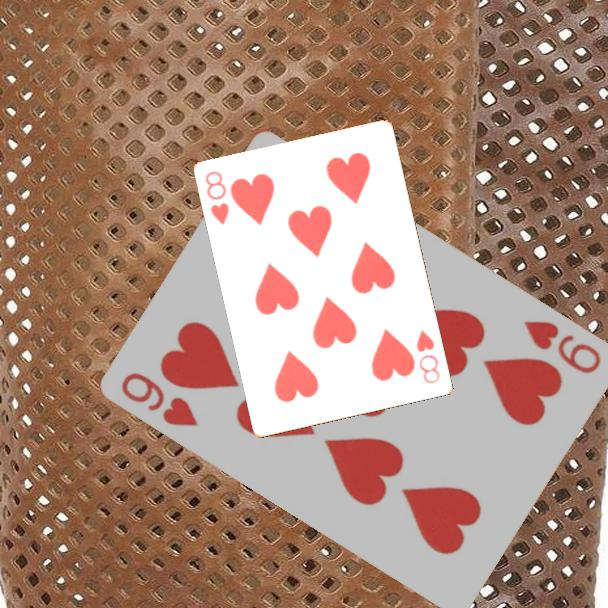h08: (413, 327, 443, 387), (202, 168, 232, 228)
h09: (118, 368, 202, 430), (520, 316, 605, 377)
